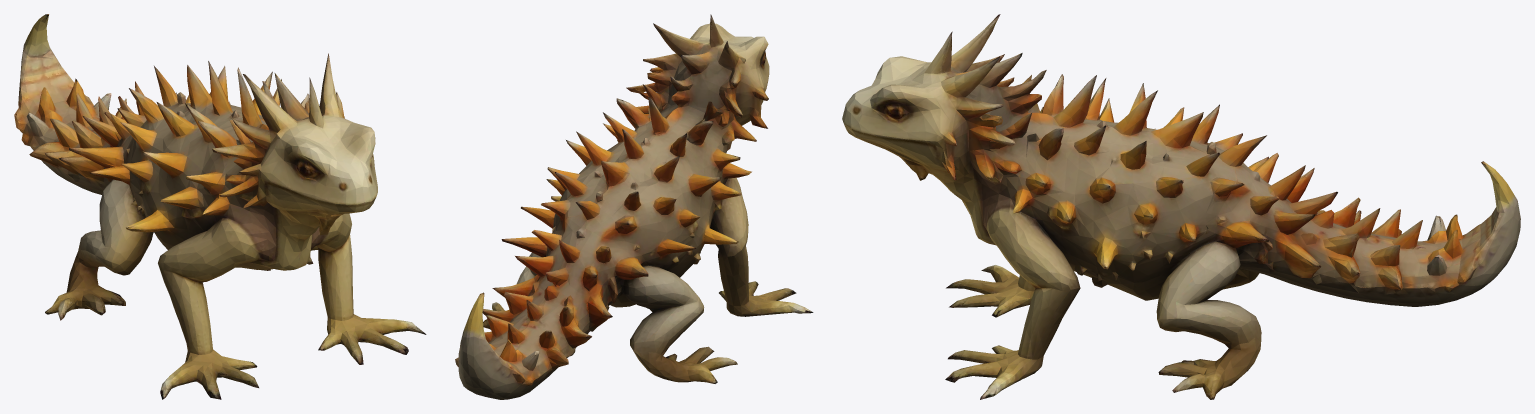
File: thorny_devil.glb
3 views of the same model, side by side, from view 1: azimuth 30°, elevation 25°; view 2: azimuth 150°, elevation 25°; view 3: azimuth 270°, elevation 25° (orthographic). The views are drawn at different scales.
Parts seen in each view (by area): view 1: geometry_0; view 2: geometry_0; view 3: geometry_0.
Part boxes in pixels (x1,y1,x2,y2): geometry_0: (14, 14, 426, 399); geometry_0: (455, 14, 813, 399); geometry_0: (842, 14, 1520, 399).
Size of the model in its own units: 0.4819 by 0.4962 by 0.9991.
1 material, 1 textured.
